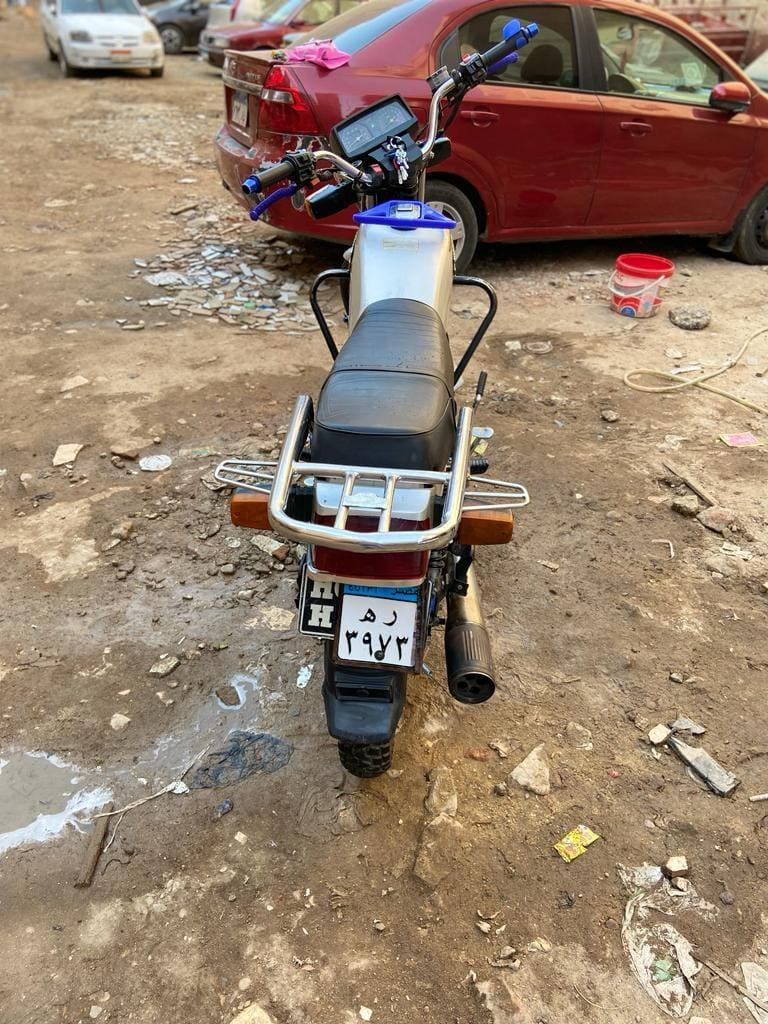License Plate: (334, 571, 420, 669)
